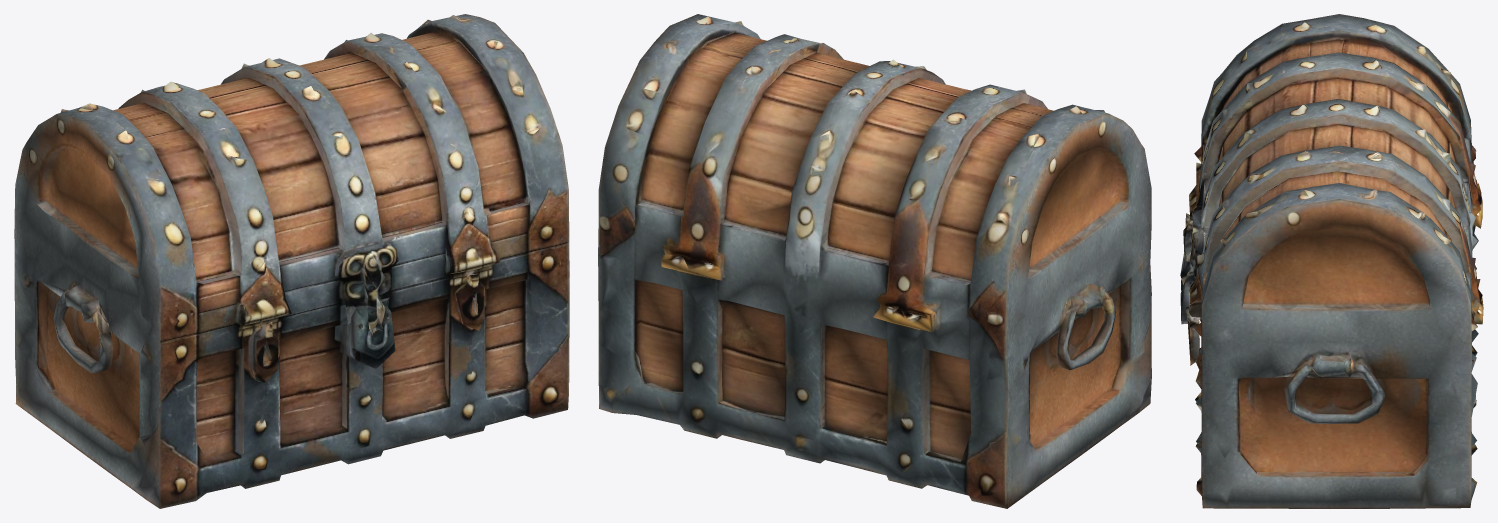
The model's file is env_chest.glb.
3 renders of one model, left to right at view 1: azimuth 30°, elevation 25°; view 2: azimuth 150°, elevation 25°; view 3: azimuth 270°, elevation 25°, orthographic. The views are drawn at different scales.
Bounding box in the file's own units: 2 × 1.45 × 1.28.
Materials: 1 (1 with a texture image).
